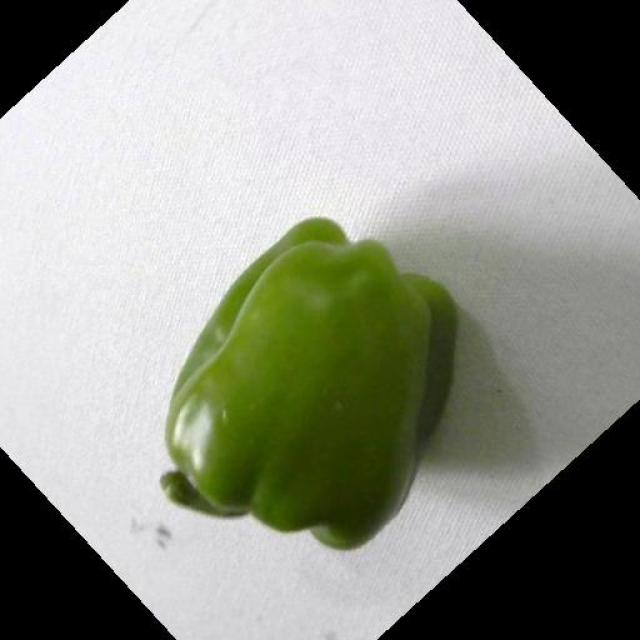Fresh_Capsicum: (164, 172, 457, 548)
